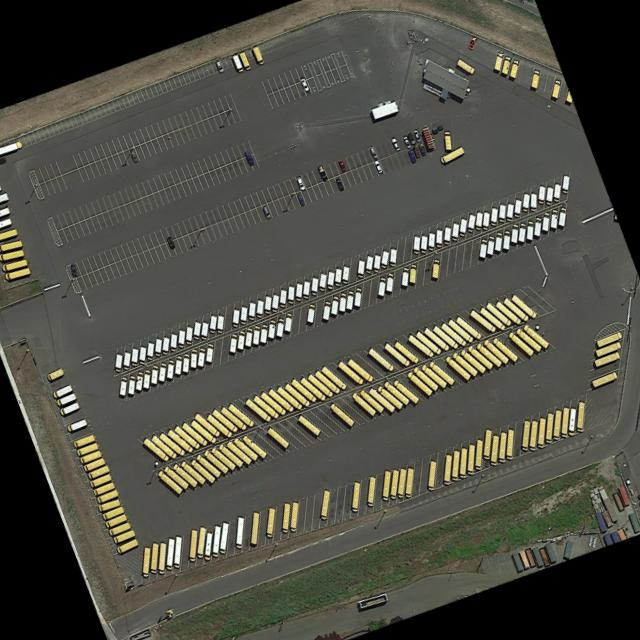large-vehicle: (225, 400, 253, 428), (418, 362, 446, 390), (450, 350, 478, 378), (489, 335, 518, 362), (520, 323, 549, 350), (335, 358, 363, 385), (318, 363, 346, 390), (381, 340, 409, 367), (421, 325, 449, 352), (366, 385, 394, 412), (404, 369, 432, 396), (390, 377, 418, 404), (410, 364, 438, 391), (513, 326, 541, 353), (505, 329, 533, 356), (426, 359, 454, 386), (344, 357, 373, 383), (311, 368, 340, 394), (242, 396, 271, 422), (404, 332, 433, 358), (305, 371, 332, 398), (288, 376, 315, 403), (258, 389, 285, 416), (509, 292, 536, 319), (445, 316, 472, 343), (192, 410, 219, 437), (141, 435, 168, 462), (381, 378, 408, 405), (458, 347, 485, 374), (443, 354, 470, 381), (297, 375, 325, 401), (265, 387, 293, 413), (250, 393, 278, 419), (365, 345, 393, 371), (476, 304, 504, 330), (500, 295, 528, 321), (483, 300, 511, 326), (430, 323, 458, 349), (413, 329, 441, 355), (218, 404, 246, 430), (164, 427, 192, 453), (374, 383, 402, 409), (473, 341, 501, 367), (282, 381, 309, 407), (453, 313, 480, 339), (204, 412, 231, 438), (179, 420, 206, 446), (149, 433, 176, 459), (170, 461, 197, 487), (230, 435, 257, 461), (481, 338, 508, 364), (465, 344, 492, 370), (596, 485, 616, 520), (209, 407, 237, 432), (467, 308, 495, 333), (155, 468, 181, 494), (194, 452, 220, 478), (349, 390, 375, 416), (240, 433, 266, 459), (209, 445, 235, 471), (274, 384, 301, 409), (493, 299, 520, 324), (438, 321, 465, 346), (172, 424, 199, 449), (157, 431, 184, 456), (189, 418, 215, 443), (178, 459, 204, 484), (357, 388, 383, 413), (327, 401, 353, 426), (224, 439, 250, 464), (392, 339, 419, 363), (162, 464, 187, 489), (188, 458, 214, 482), (201, 449, 227, 473), (216, 443, 241, 467), (296, 413, 319, 436), (265, 425, 288, 448), (438, 145, 463, 162), (595, 330, 621, 346), (590, 370, 616, 386), (594, 340, 620, 355), (592, 351, 618, 366), (90, 479, 114, 495), (233, 514, 244, 548), (114, 537, 137, 553), (217, 520, 228, 553), (425, 458, 436, 490), (100, 504, 123, 519), (94, 487, 117, 502), (81, 456, 104, 471), (349, 480, 360, 511), (264, 506, 275, 537), (3, 266, 29, 279), (0, 257, 26, 270), (403, 464, 413, 497), (187, 527, 197, 560), (519, 417, 529, 450), (551, 407, 561, 440), (543, 410, 553, 443), (488, 432, 498, 465), (195, 524, 205, 557), (111, 527, 133, 542), (86, 463, 108, 478), (103, 512, 126, 526), (87, 472, 110, 486), (64, 417, 87, 431), (395, 466, 405, 498), (388, 467, 398, 499), (365, 474, 375, 506), (319, 487, 329, 519), (279, 500, 289, 532), (527, 418, 537, 450), (574, 399, 584, 431), (172, 532, 181, 567), (164, 534, 173, 569), (58, 399, 79, 414), (380, 468, 390, 499), (107, 520, 129, 534), (210, 523, 219, 557), (455, 57, 473, 74), (566, 405, 576, 435), (51, 382, 71, 397), (74, 441, 97, 454), (249, 510, 258, 543), (559, 404, 568, 437), (504, 426, 513, 459), (450, 447, 459, 480), (156, 540, 165, 573), (148, 539, 157, 572), (0, 139, 21, 153), (72, 433, 93, 447), (441, 452, 450, 484), (536, 415, 545, 447), (473, 437, 482, 469), (457, 445, 466, 477), (140, 544, 149, 576), (78, 449, 100, 462), (55, 391, 75, 405), (288, 500, 297, 531), (202, 529, 211, 559), (97, 498, 119, 510), (250, 44, 263, 64), (237, 50, 250, 70), (497, 429, 505, 461), (482, 427, 490, 459), (0, 248, 23, 259), (45, 366, 63, 380), (465, 442, 473, 473), (229, 53, 242, 72), (0, 239, 20, 250), (550, 77, 560, 98), (507, 58, 518, 77), (492, 50, 502, 70), (529, 68, 539, 88), (0, 226, 16, 238), (559, 172, 568, 193), (376, 275, 385, 295), (352, 286, 361, 306), (329, 294, 338, 314), (305, 302, 314, 322), (274, 316, 283, 336), (477, 237, 486, 257), (500, 54, 509, 74), (465, 211, 474, 231), (488, 205, 497, 225), (457, 215, 466, 235), (536, 183, 545, 203), (204, 342, 213, 362), (195, 346, 204, 366), (113, 351, 122, 371), (363, 253, 372, 273), (384, 272, 393, 291), (430, 258, 439, 277), (282, 312, 291, 331), (556, 206, 565, 225), (548, 208, 557, 227), (540, 211, 549, 230), (551, 182, 560, 201), (121, 349, 129, 370), (207, 312, 215, 333), (266, 318, 274, 338), (258, 322, 266, 342), (532, 216, 540, 236), (524, 219, 532, 239), (509, 222, 517, 242), (228, 332, 236, 352), (512, 196, 520, 216), (504, 201, 512, 221), (481, 209, 489, 229), (473, 209, 481, 229), (180, 352, 188, 372), (544, 184, 552, 204), (134, 370, 142, 390), (153, 336, 161, 356), (183, 323, 191, 343), (176, 327, 184, 347), (145, 339, 153, 359), (129, 346, 137, 366), (301, 278, 309, 298), (340, 263, 348, 283), (325, 268, 333, 288), (317, 270, 325, 290), (309, 275, 317, 295), (285, 283, 293, 303), (262, 293, 270, 313), (254, 297, 262, 317), (321, 300, 329, 319), (485, 235, 493, 254), (493, 231, 501, 250), (516, 222, 524, 241), (501, 229, 509, 248), (251, 324, 259, 343), (243, 327, 251, 346), (496, 202, 504, 221), (450, 220, 458, 239), (411, 234, 419, 253), (520, 191, 528, 210), (379, 248, 387, 267), (157, 361, 165, 380), (188, 348, 196, 367), (173, 354, 181, 373), (149, 364, 157, 383), (126, 374, 134, 393), (118, 375, 126, 394), (199, 320, 207, 339), (191, 319, 199, 338), (168, 331, 176, 350), (160, 334, 168, 353), (215, 313, 223, 332), (333, 266, 341, 285), (277, 287, 285, 306), (270, 292, 278, 311), (442, 223, 449, 244), (442, 130, 450, 148), (356, 258, 364, 276), (345, 289, 352, 309), (528, 191, 535, 211), (165, 358, 172, 378), (388, 246, 395, 266), (372, 252, 379, 272), (231, 306, 238, 326), (294, 280, 301, 300), (247, 299, 254, 319), (338, 292, 345, 311), (408, 263, 415, 282), (400, 266, 407, 285), (236, 329, 243, 348), (434, 227, 441, 246), (426, 230, 433, 249), (419, 233, 426, 252), (142, 368, 149, 387), (137, 344, 144, 363), (239, 304, 246, 323), (0, 216, 11, 226), (0, 205, 8, 215), (0, 191, 7, 200)
small-vehicle: (315, 164, 327, 180), (242, 149, 253, 165), (298, 76, 309, 91), (260, 204, 270, 218), (294, 176, 304, 190), (372, 159, 382, 173), (213, 59, 222, 73), (389, 137, 398, 151), (334, 177, 343, 191), (410, 143, 419, 157), (295, 193, 304, 206), (368, 145, 377, 158), (401, 134, 409, 148), (337, 157, 344, 172), (467, 35, 475, 48), (406, 149, 414, 162), (416, 142, 424, 155), (129, 149, 137, 161), (165, 236, 173, 248), (406, 131, 414, 143), (412, 129, 419, 141), (69, 263, 75, 276), (0, 156, 5, 162), (636, 492, 640, 498), (637, 500, 640, 507)
